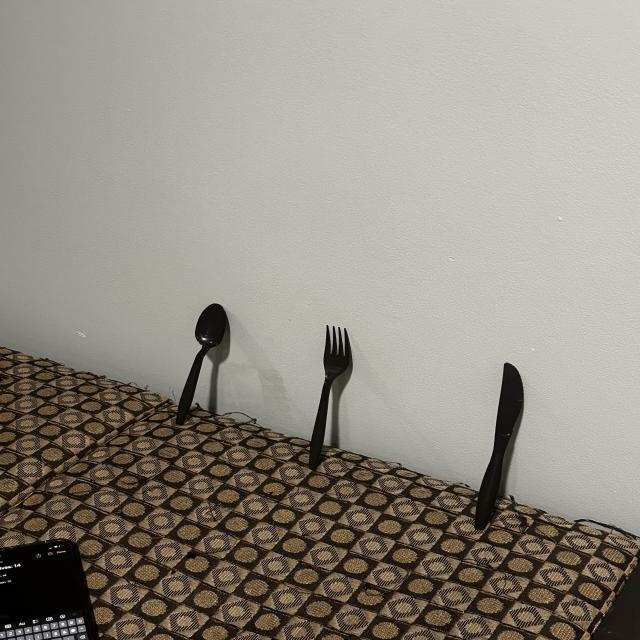fork: (288, 295, 388, 480)
knife: (423, 338, 580, 548)
spoon: (126, 286, 267, 436)
